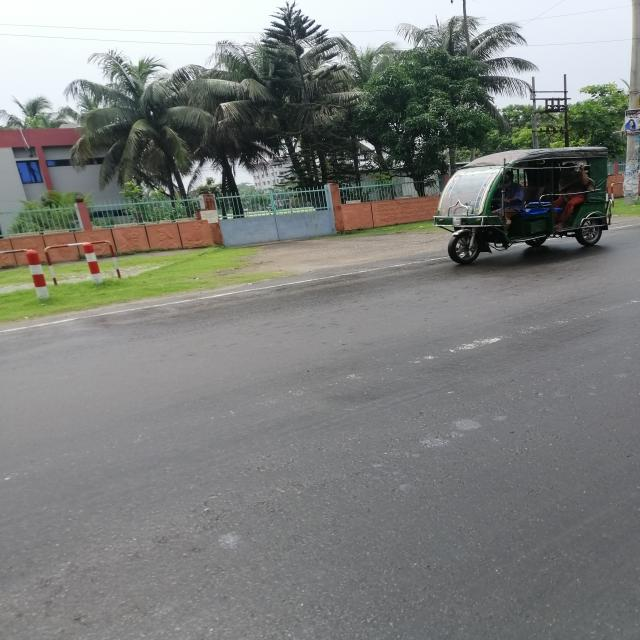Easybike: (407, 135, 632, 284)
